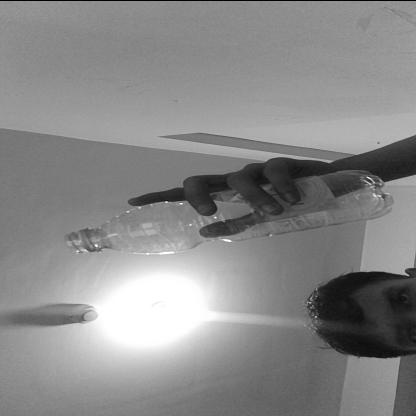plastic_bottles: (62, 170, 396, 254)
